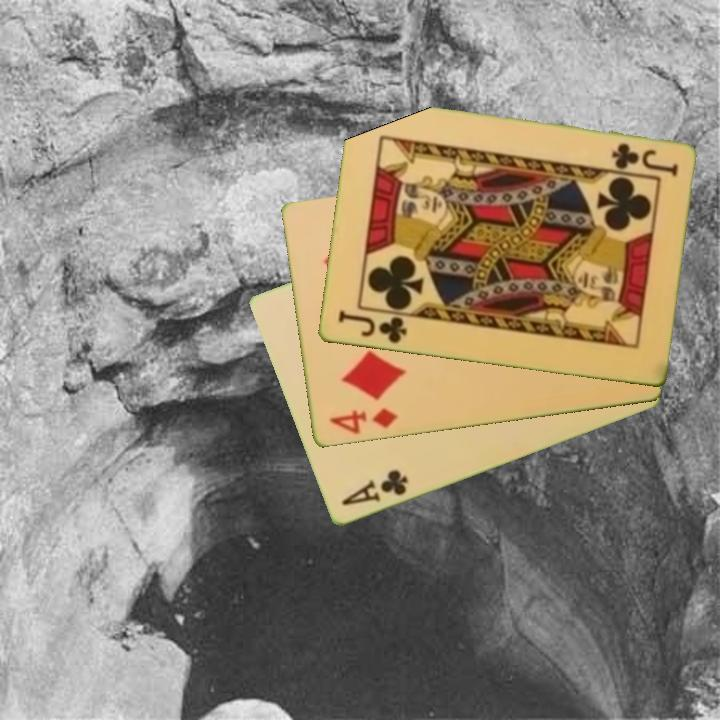4d: (326, 405, 401, 438)
Ac: (338, 466, 411, 509)
Jc: (334, 307, 410, 347), (607, 140, 681, 178)
